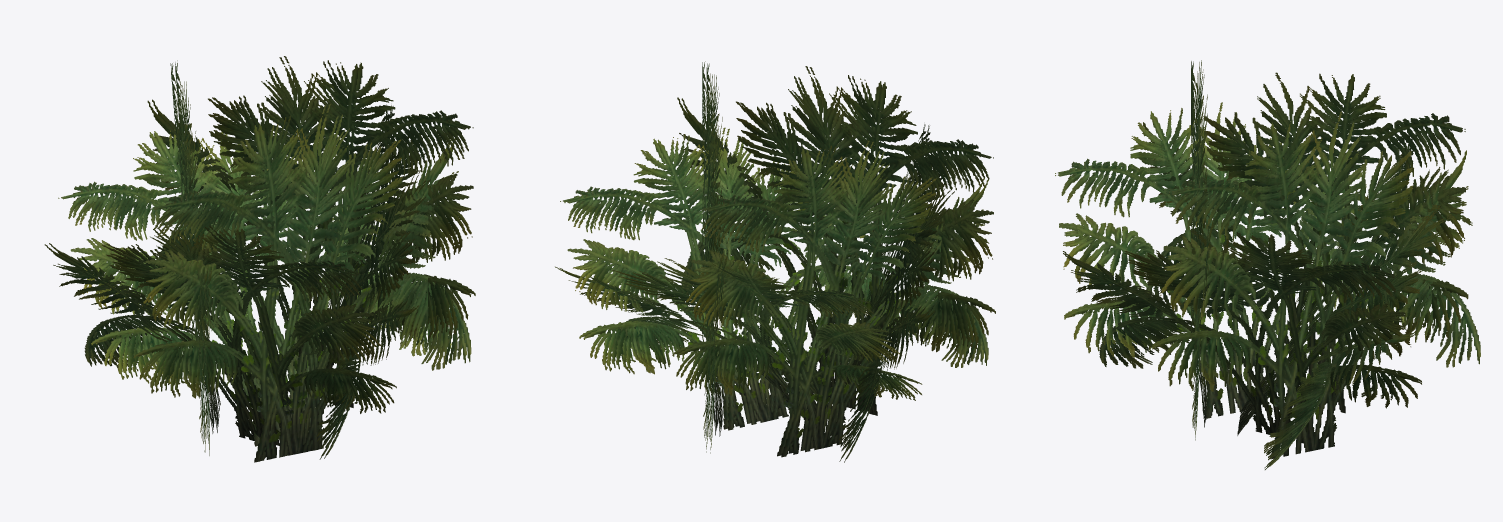
File: GM_guanmu002_004.FBX
The picture shows the model from 3 angles, left to right: view 1: azimuth 30°, elevation 25°; view 2: azimuth 150°, elevation 25°; view 3: azimuth 270°, elevation 25°; orthographic projection. The views are drawn at different scales.
Parts seen in each view (by area): view 1: GM_巴陵灌木002_004; view 2: GM_巴陵灌木002_004; view 3: GM_巴陵灌木002_004.
Boxes of the visible parts, box(x1,y1,x2,y2) form: GM_巴陵灌木002_004: box(44, 56, 475, 462); GM_巴陵灌木002_004: box(555, 61, 995, 462); GM_巴陵灌木002_004: box(1055, 60, 1480, 469).
Bounding box in the file's own units: 120 × 101 × 115.
